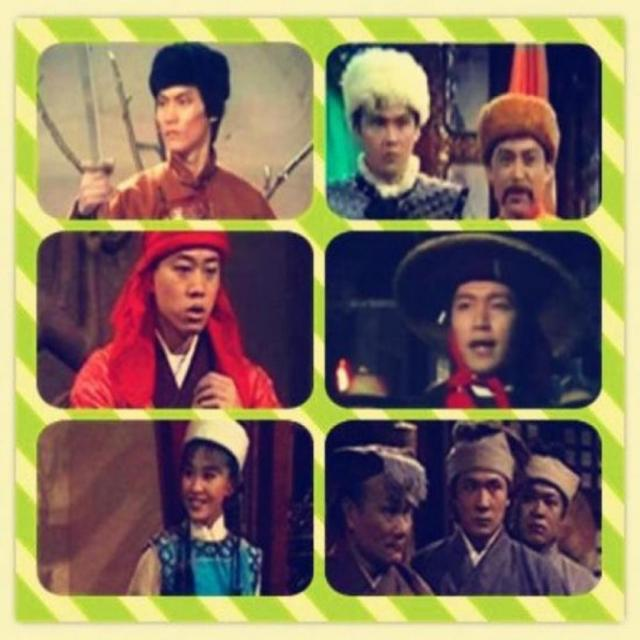nomask: (450, 272, 518, 372), (155, 230, 220, 330), (494, 129, 546, 212), (366, 86, 415, 169), (372, 475, 418, 563), (458, 463, 507, 541), (155, 78, 201, 154), (519, 470, 560, 538), (184, 451, 225, 518)
